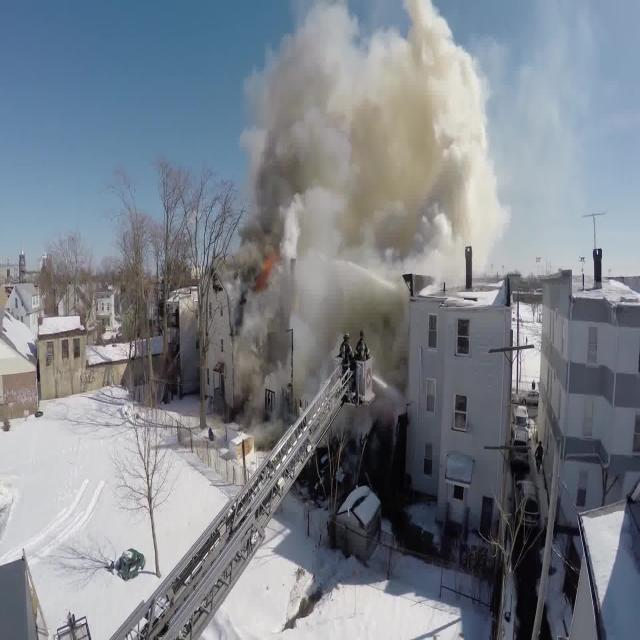Smoke: (266, 10, 486, 400)
